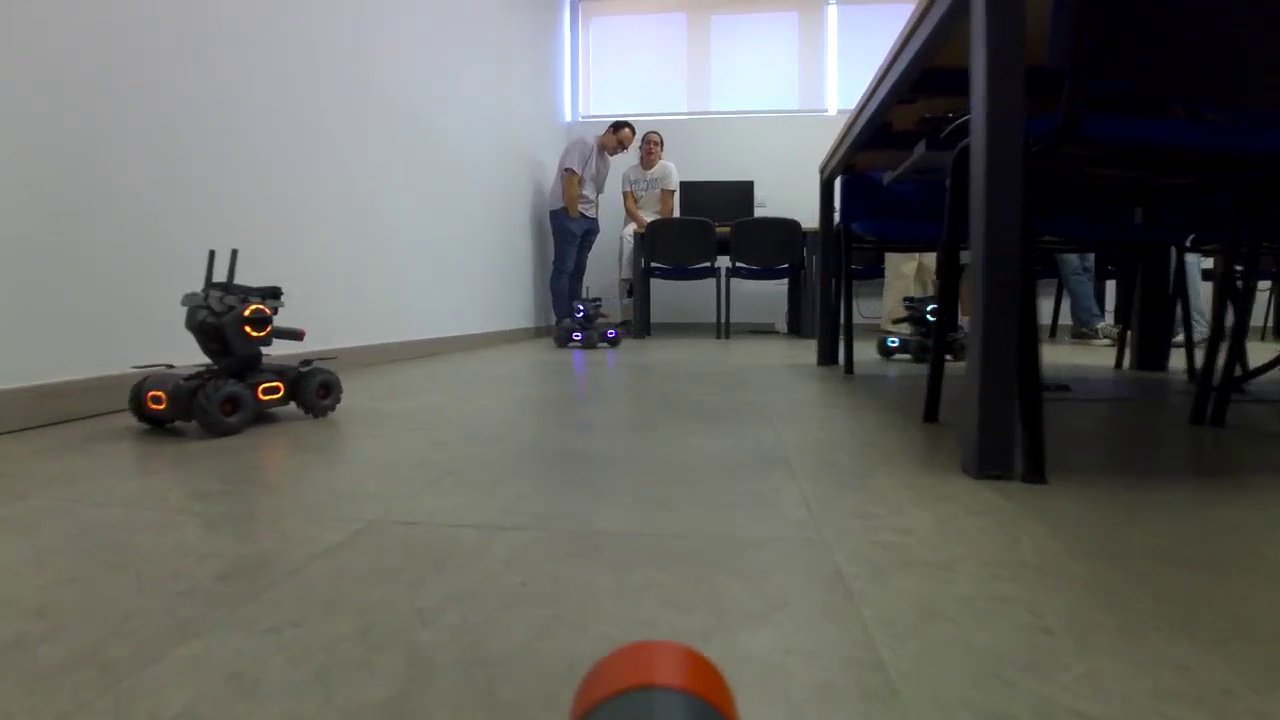robot: (133, 272, 340, 432), (880, 292, 965, 360), (553, 297, 618, 355)
